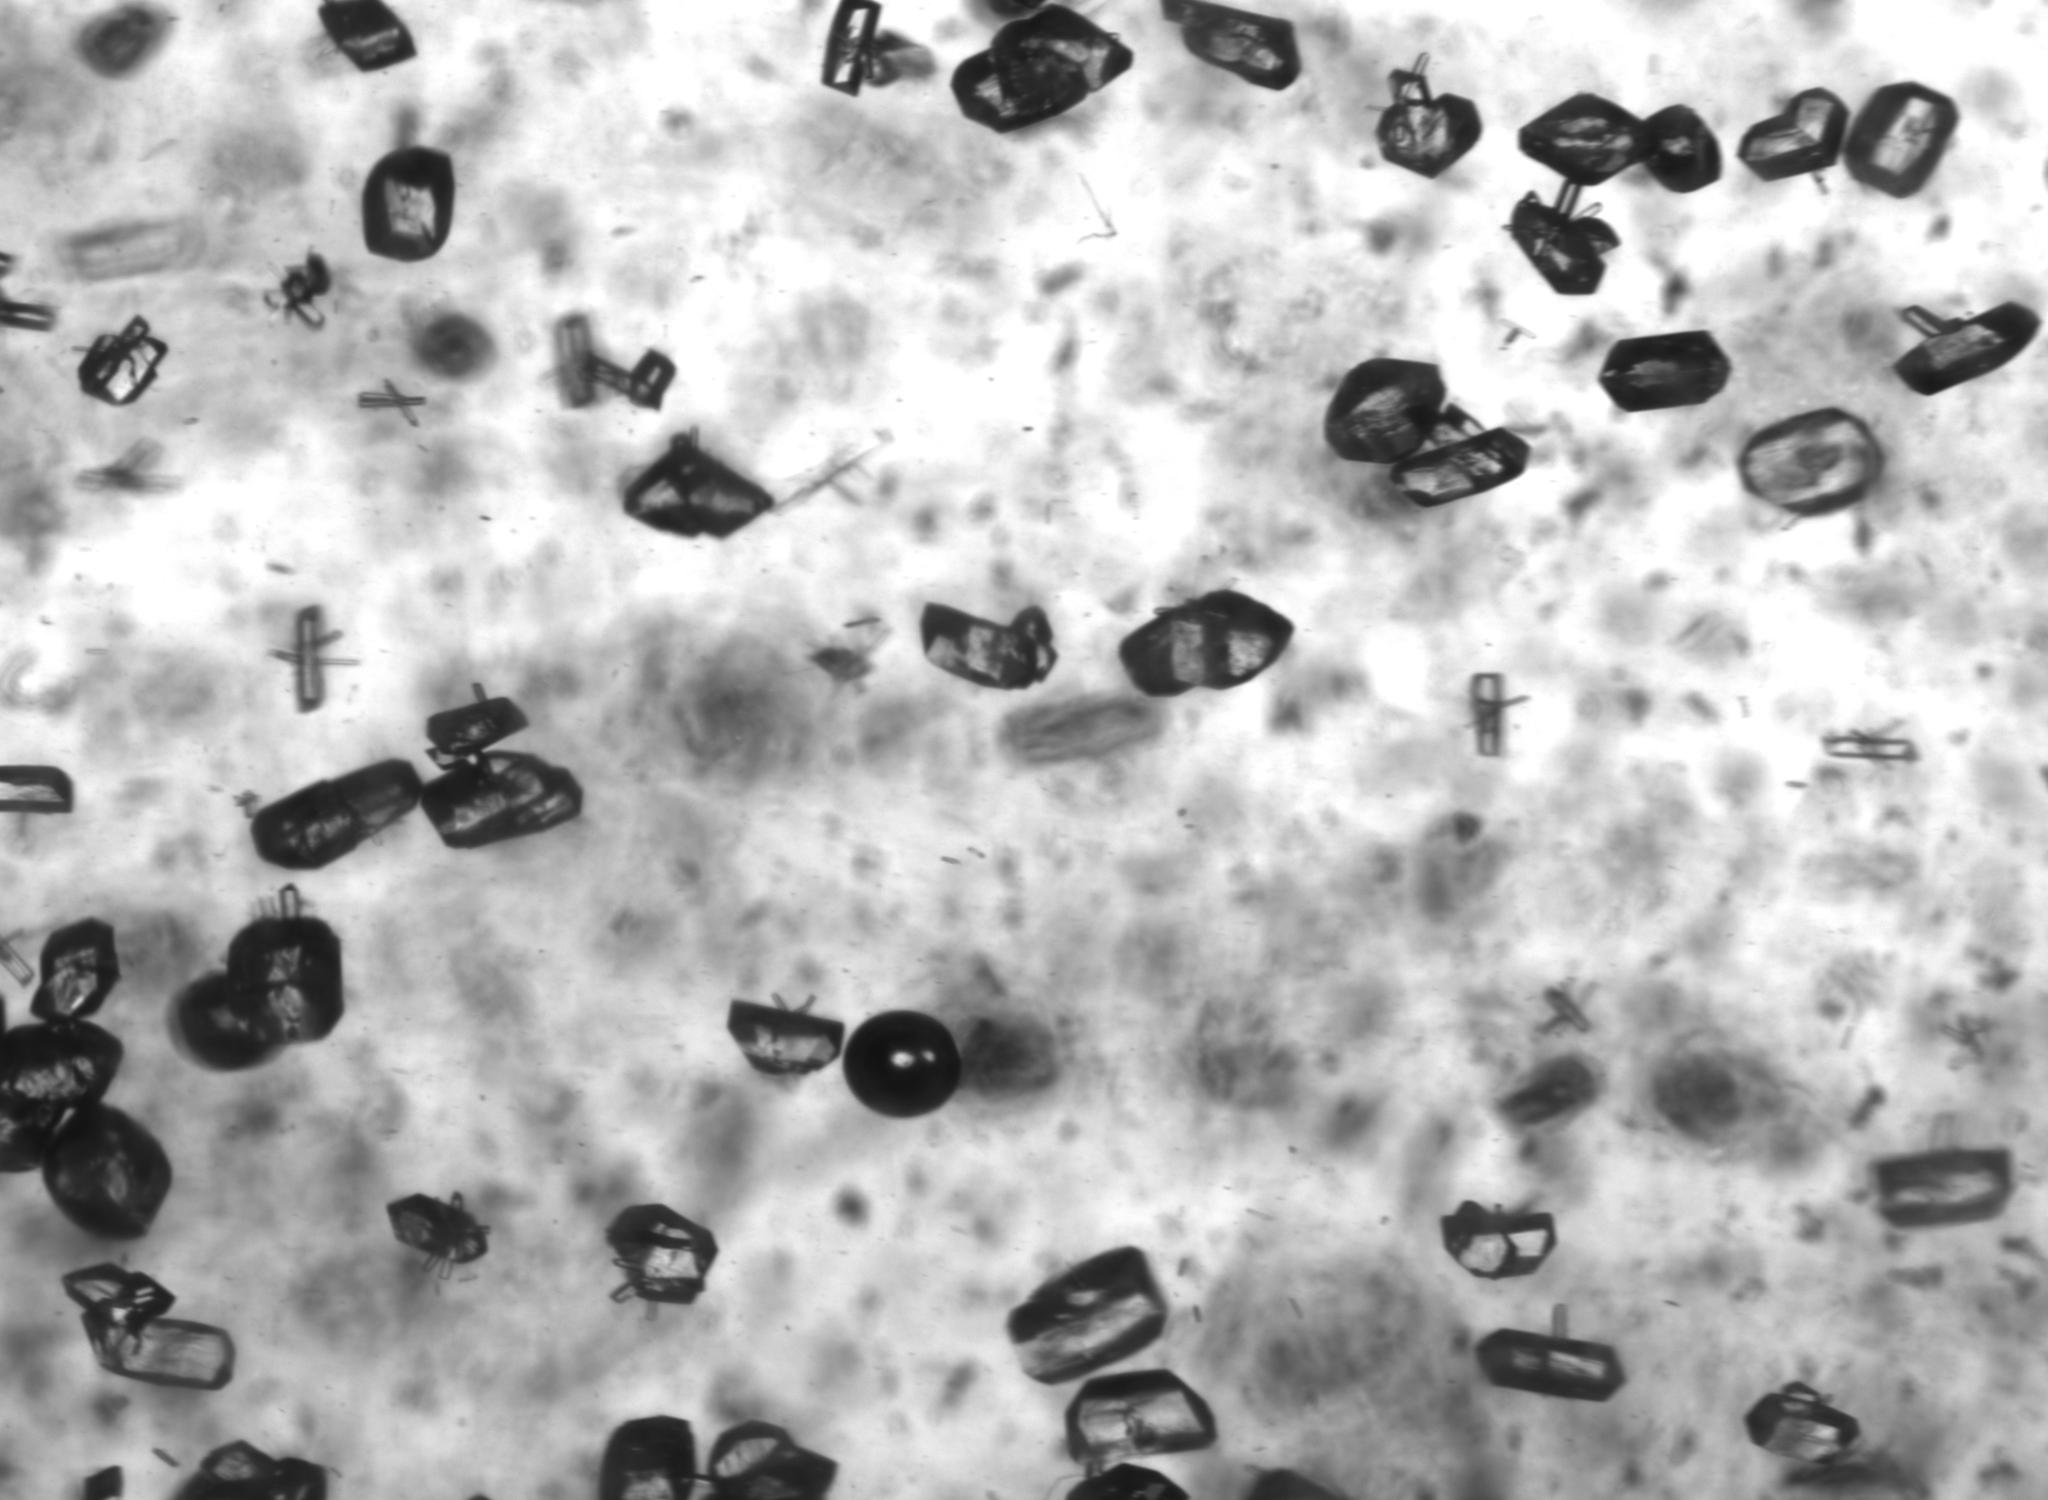bubble: (843, 1010, 964, 1118)
crystal: (172, 916, 343, 1071), (952, 5, 1134, 134), (1007, 1247, 1167, 1384), (64, 1263, 234, 1390), (250, 760, 420, 870), (1118, 590, 1293, 697), (0, 1020, 122, 1171), (40, 1106, 172, 1239), (1065, 1370, 1216, 1476), (1738, 407, 1884, 517), (420, 751, 582, 848), (623, 434, 773, 538), (1894, 302, 2038, 394), (1506, 180, 1619, 296), (1325, 358, 1447, 464), (1843, 83, 1957, 196), (1375, 56, 1482, 177), (1162, 0, 1301, 89), (1519, 94, 1646, 186), (921, 603, 1056, 689), (1873, 1147, 2013, 1228), (607, 1204, 717, 1304), (1476, 1328, 1625, 1401), (1598, 331, 1732, 412), (1391, 428, 1530, 506), (703, 1420, 836, 1500), (363, 146, 455, 261), (1738, 89, 1849, 180), (1744, 1382, 1859, 1468), (30, 918, 119, 1020), (1441, 1201, 1557, 1279), (273, 604, 356, 713), (176, 1441, 328, 1500), (728, 1001, 844, 1075), (386, 1193, 488, 1274), (78, 315, 169, 406), (599, 1416, 696, 1500), (1639, 105, 1722, 192), (428, 695, 526, 768), (318, 0, 417, 70), (822, 0, 881, 95), (587, 350, 676, 409), (267, 253, 331, 326), (1065, 1463, 1188, 1500), (0, 765, 73, 813), (1821, 730, 1918, 762), (1471, 674, 1499, 757), (0, 294, 56, 331)
